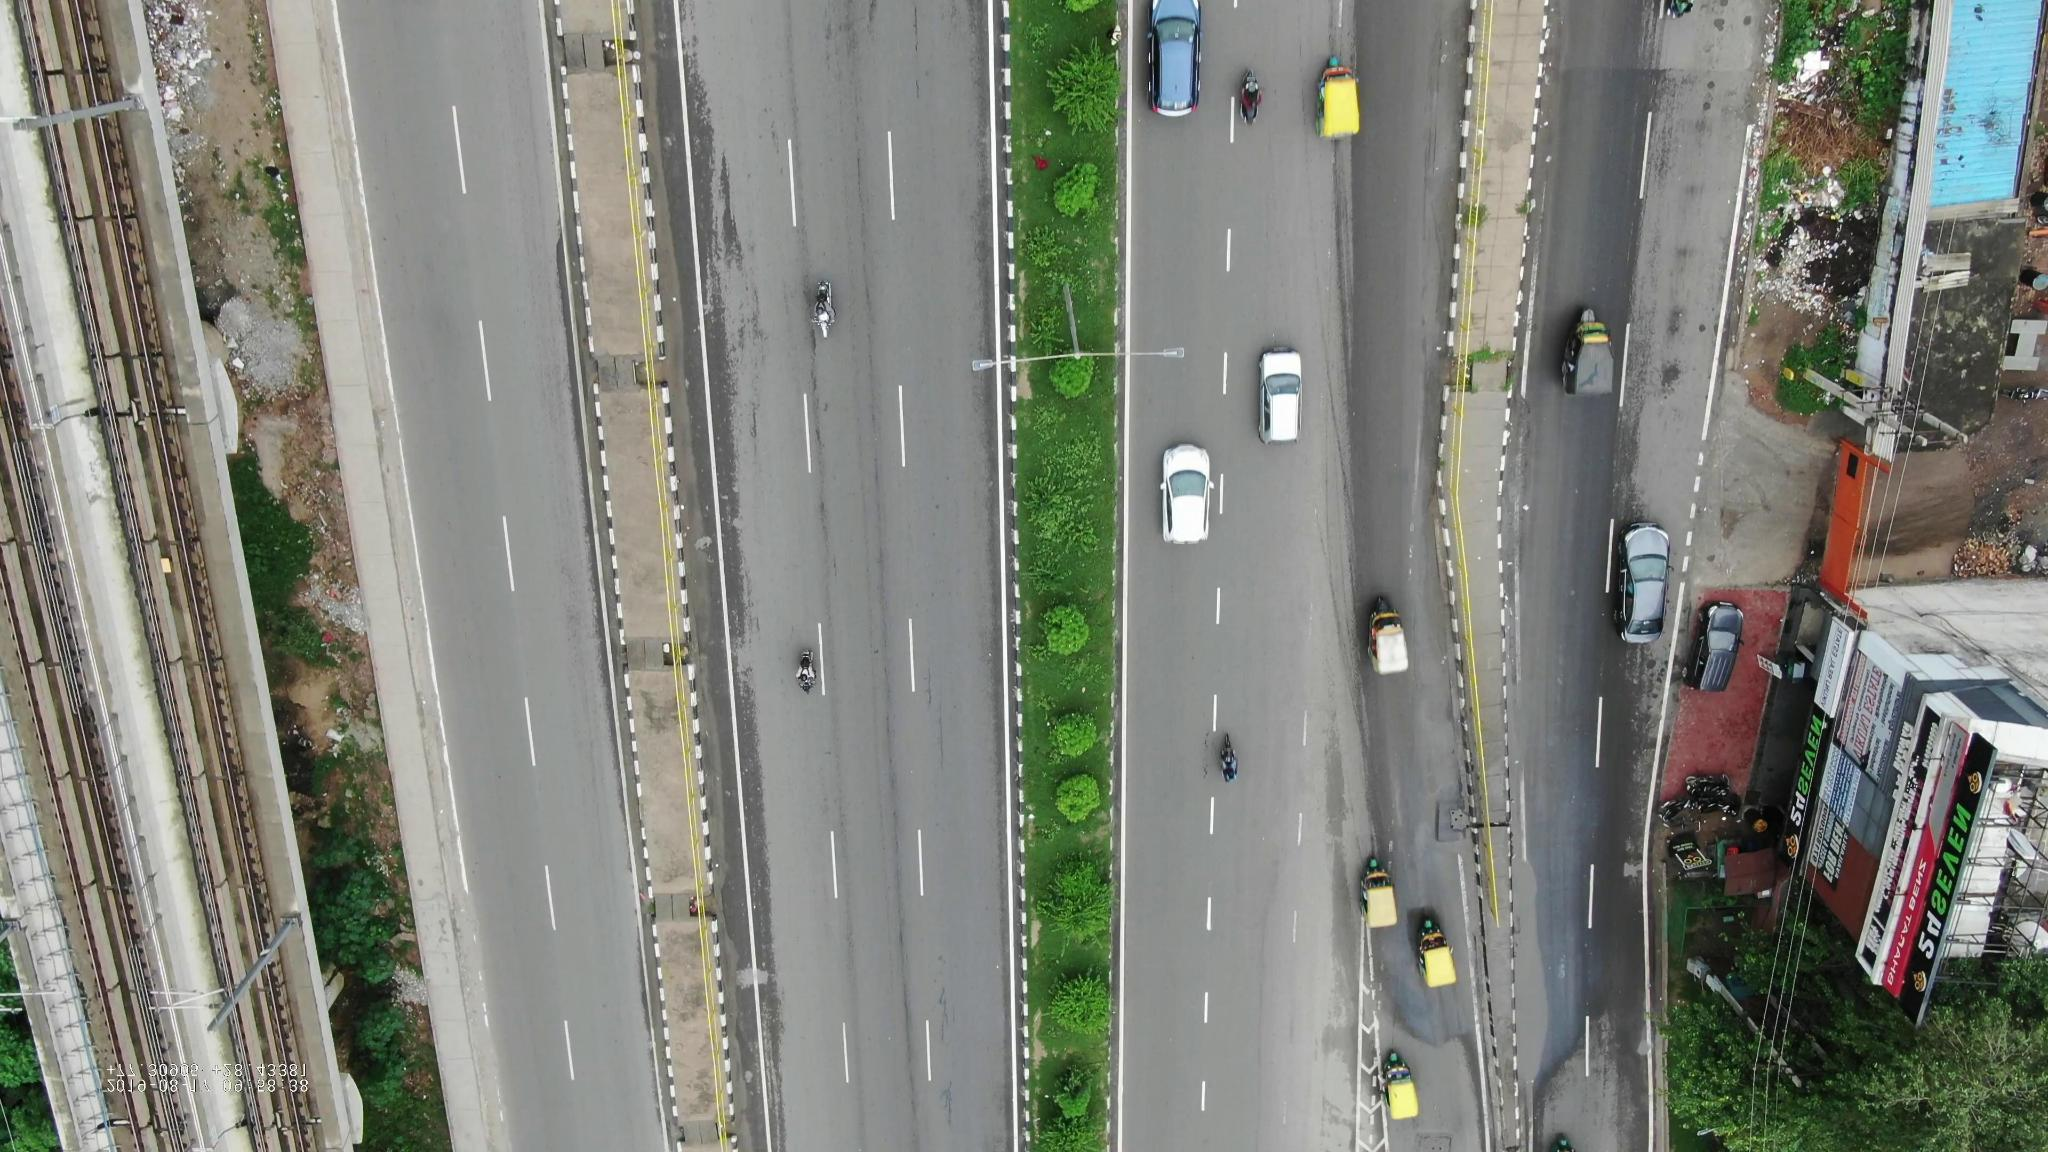Cracks: (907, 608, 975, 774), (917, 985, 985, 1137)
